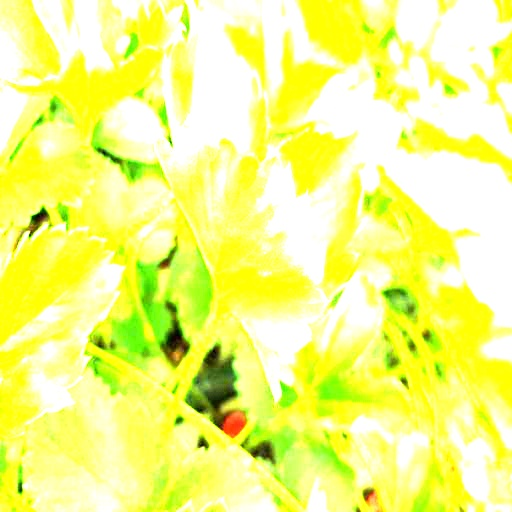Powdery Mildew Leaf: (153, 116, 333, 405)
